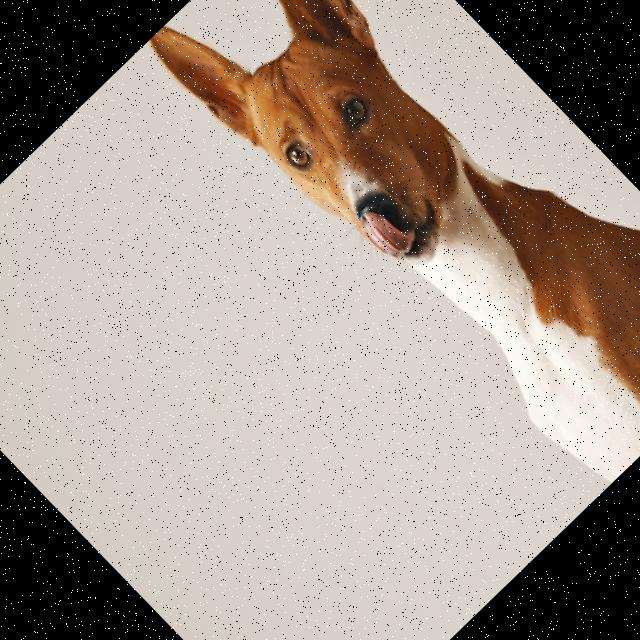Dog: (144, 0, 640, 505)
